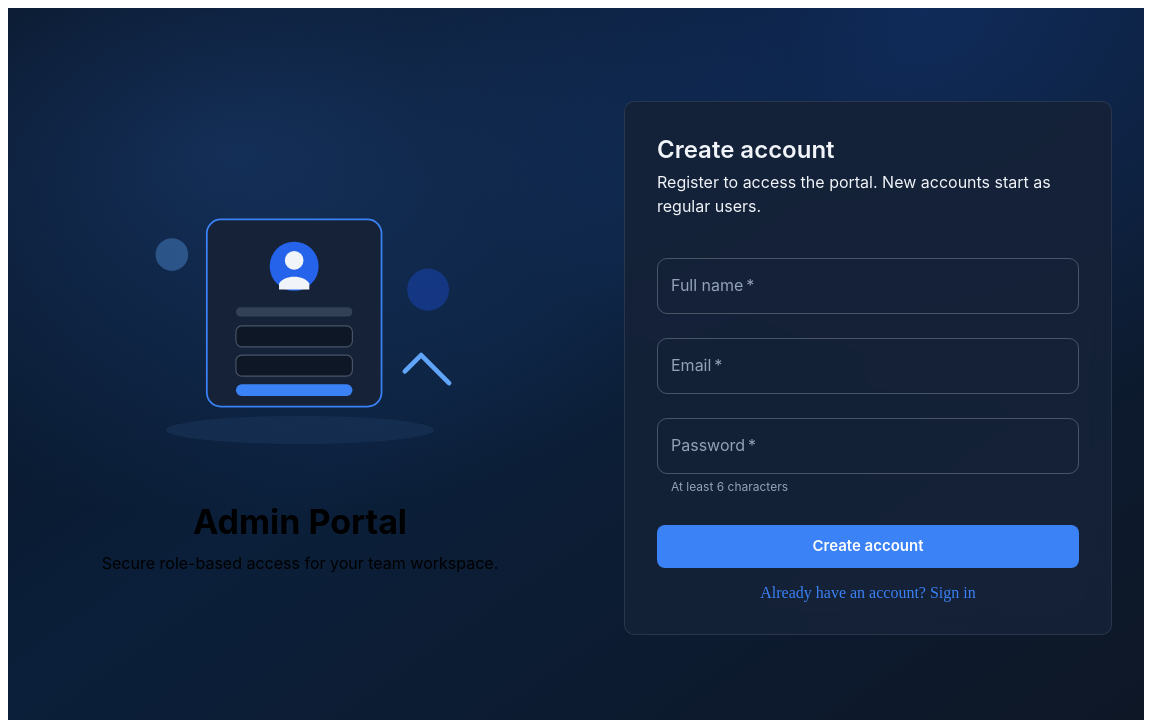
Test: RegisterPage › explains a Firestore permission failure
The image size is (1152, 720).
Type "Ada Lovelace" into the field labelled "Full name *" at (868, 286), box [657,258,1079,314]
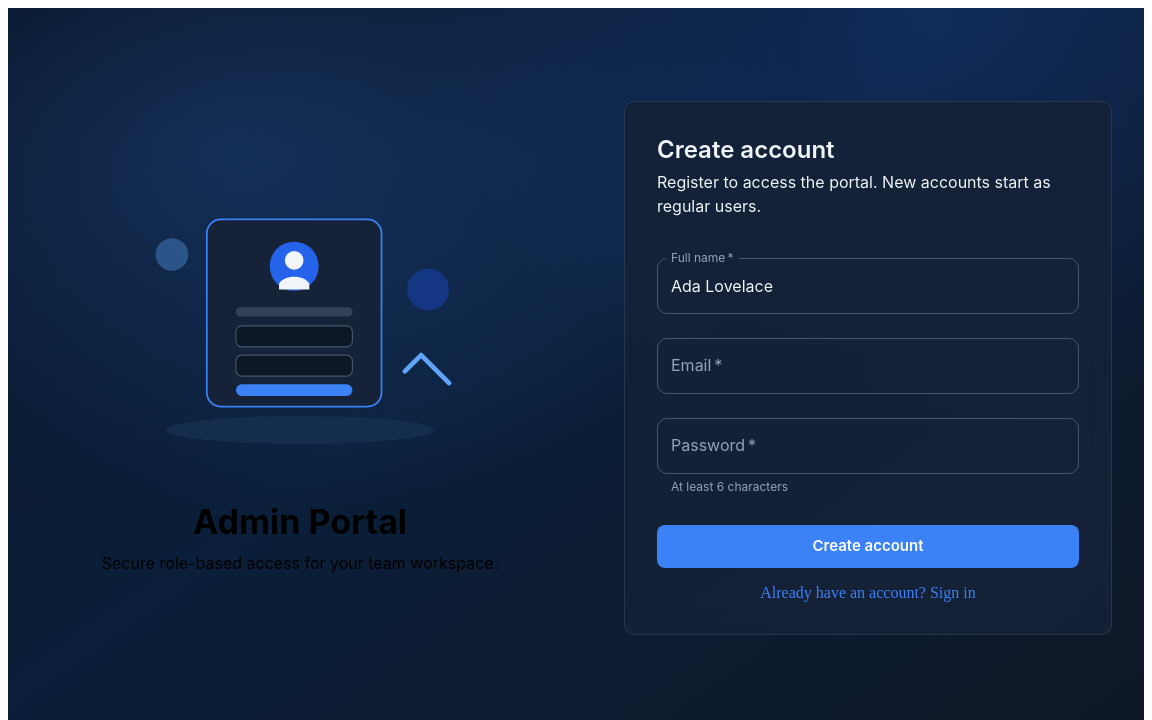
Type "ada@example.com" into the field labelled "Email *" at (868, 366), box [657,338,1079,394]
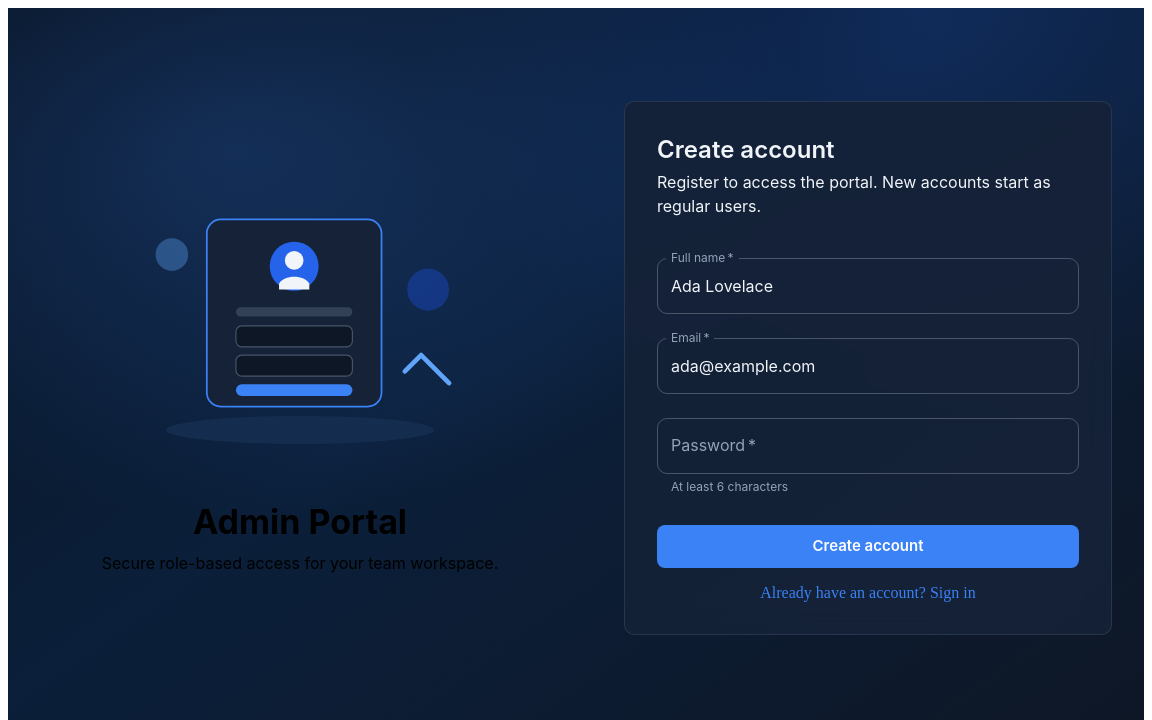
Type "secret" into the password field labelled "Password *" at (868, 446), box [657,418,1079,474]
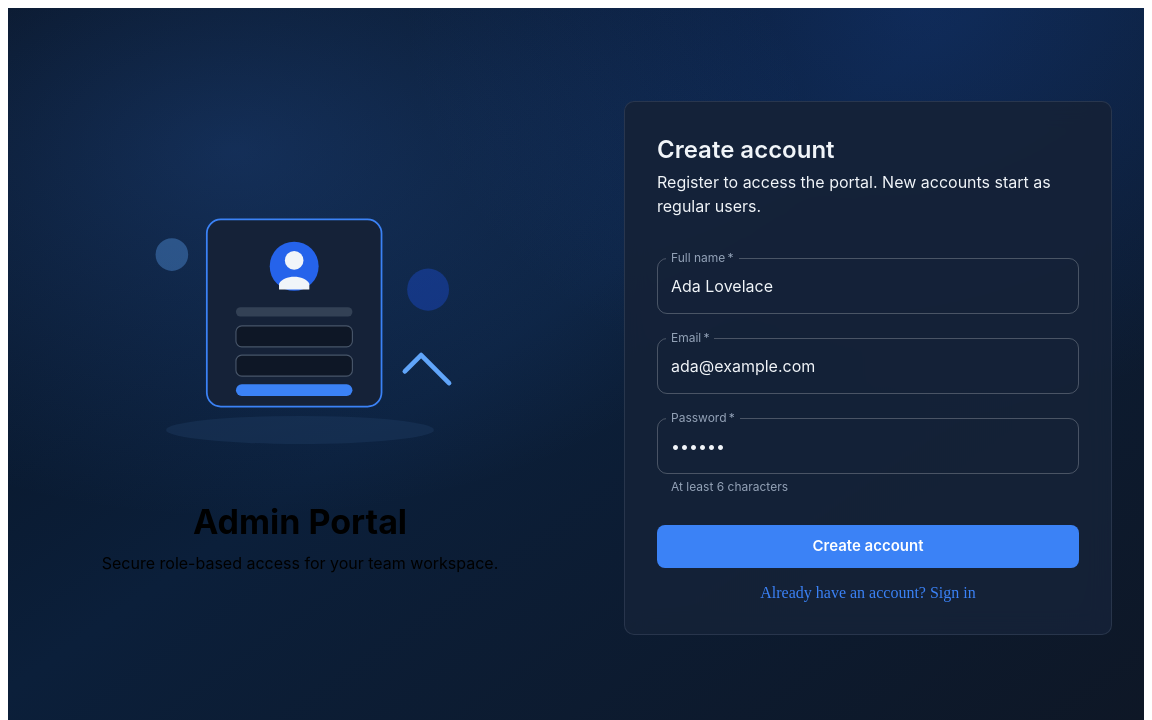
Click the button "Create account" at (868, 546), box [657,525,1079,568]
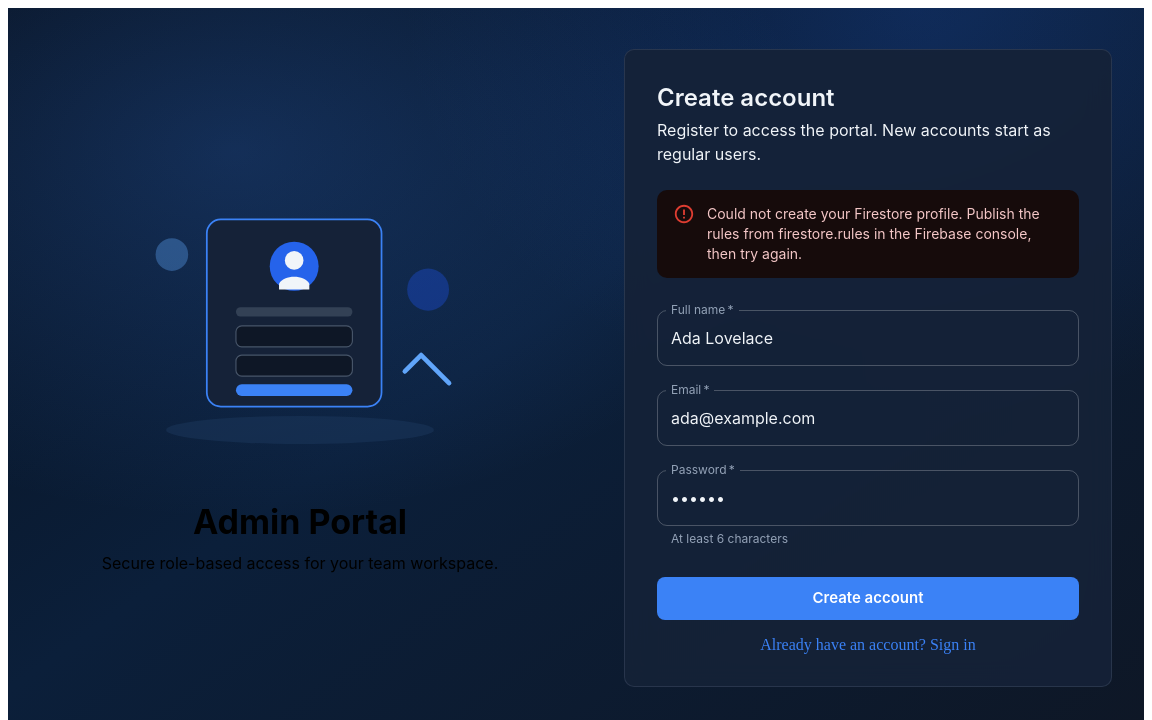
Expected: the text "Could not create your Firestore profile" is shown, [707,205,1040,262]
